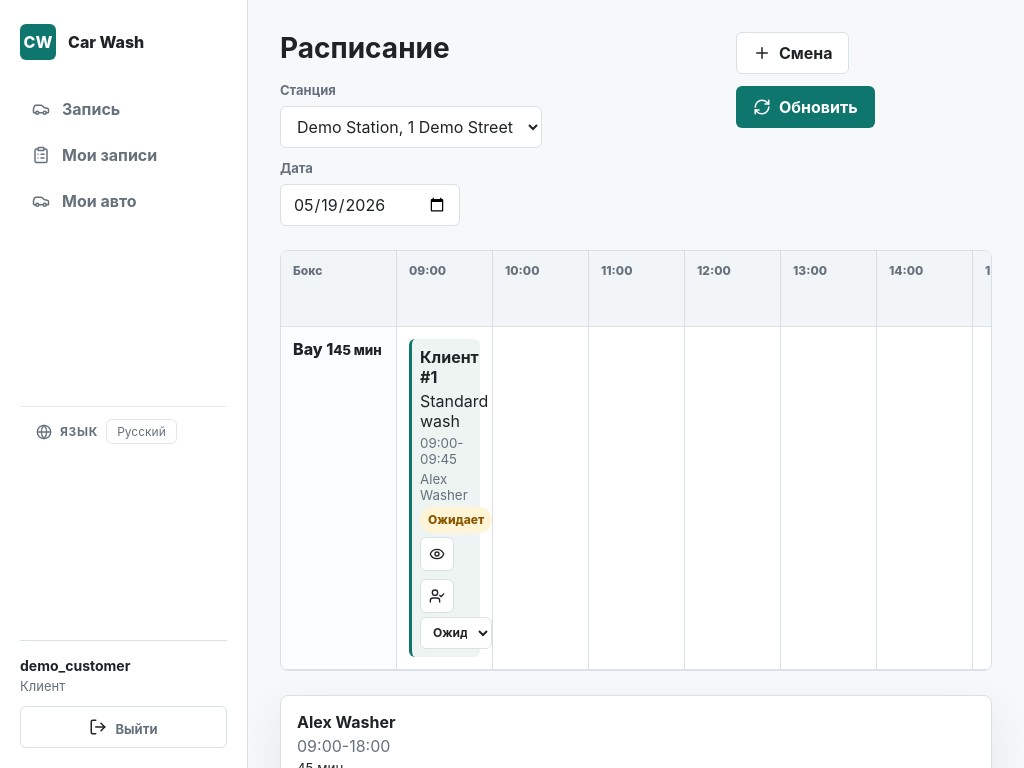
Test case: App › opens assignment dialog from manager schedule
Expected: the heading "Расписание" is shown, [280, 31, 450, 65]
Click the button named "Назначить заказ #1". click: {"x": 437, "y": 596}
box: [420, 579, 454, 613]
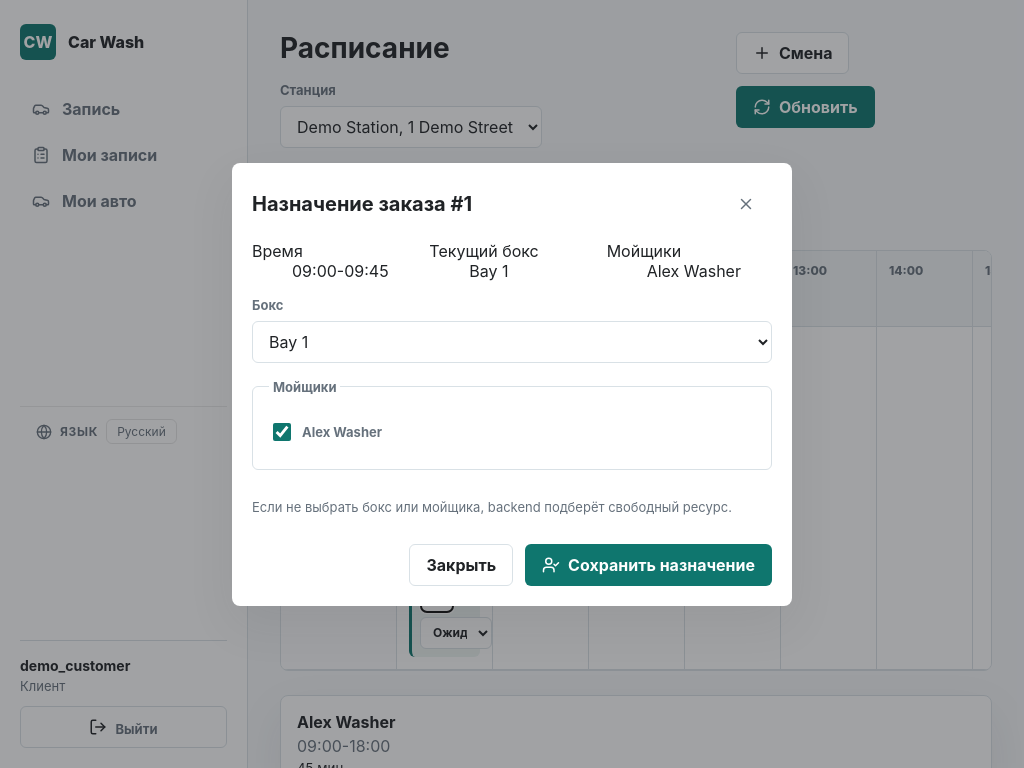
Result: the dialog "Назначение заказа #1" is shown
